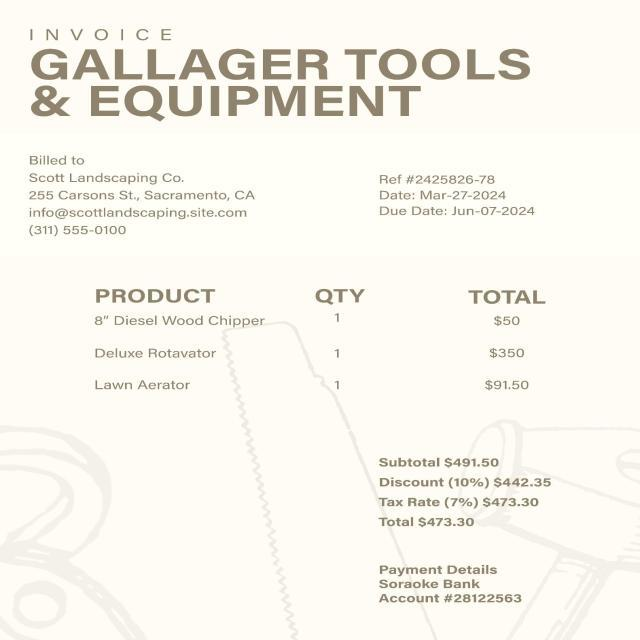ROI: (78, 266, 566, 418), (18, 44, 546, 128), (12, 148, 278, 248), (369, 453, 562, 534), (365, 554, 550, 614), (370, 164, 544, 226), (14, 18, 181, 44)
